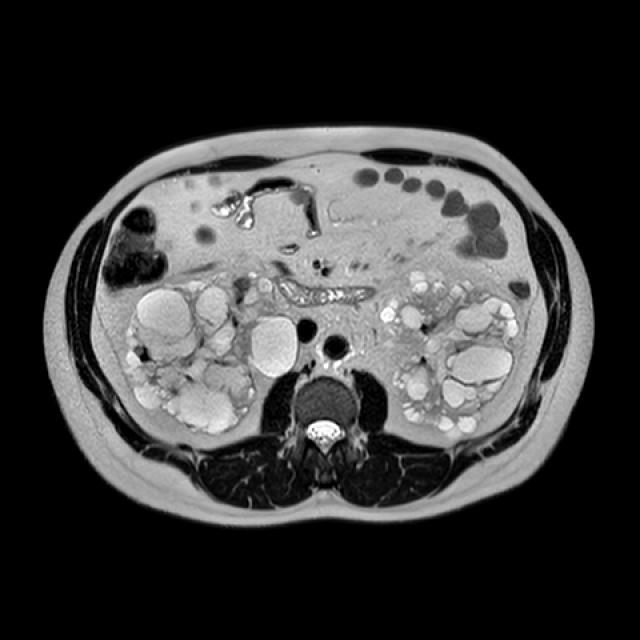sag: (127, 268, 298, 433)
sol: (385, 267, 519, 438)
